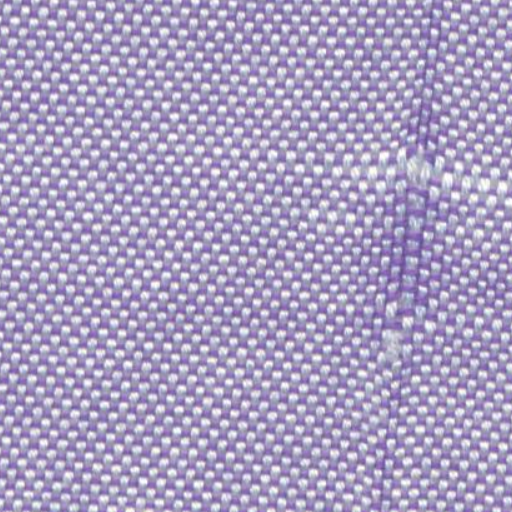DaiSha: (356, 102, 474, 396)
